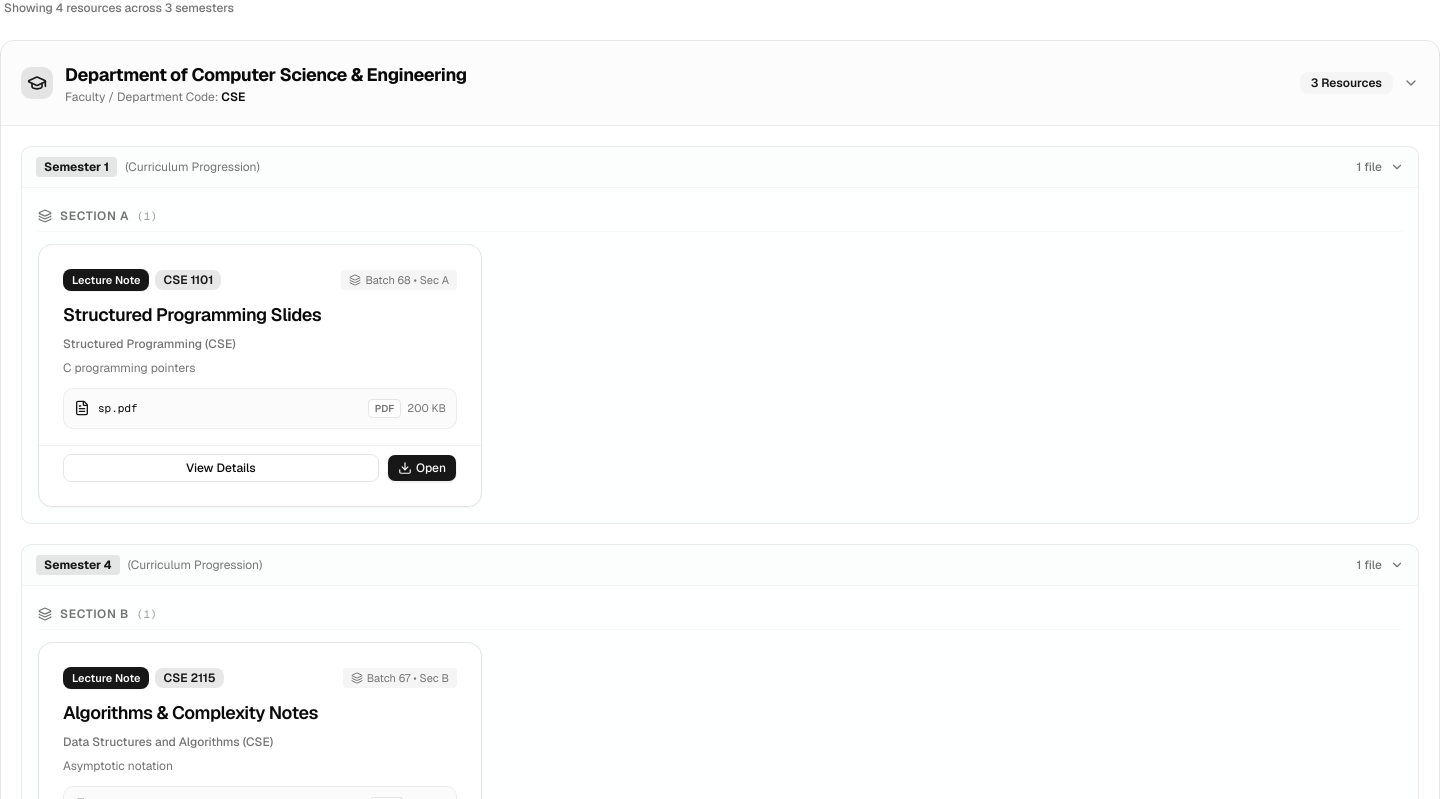
Test case: ResourceHierarchyView › toggles collapse and expand when department or semester headers are clicked
Click to collapse CSE
Click the button with aria-label "Toggle Department of Computer Science & Engineering": coordinates (37, 83) [1, 41, 1439, 126]
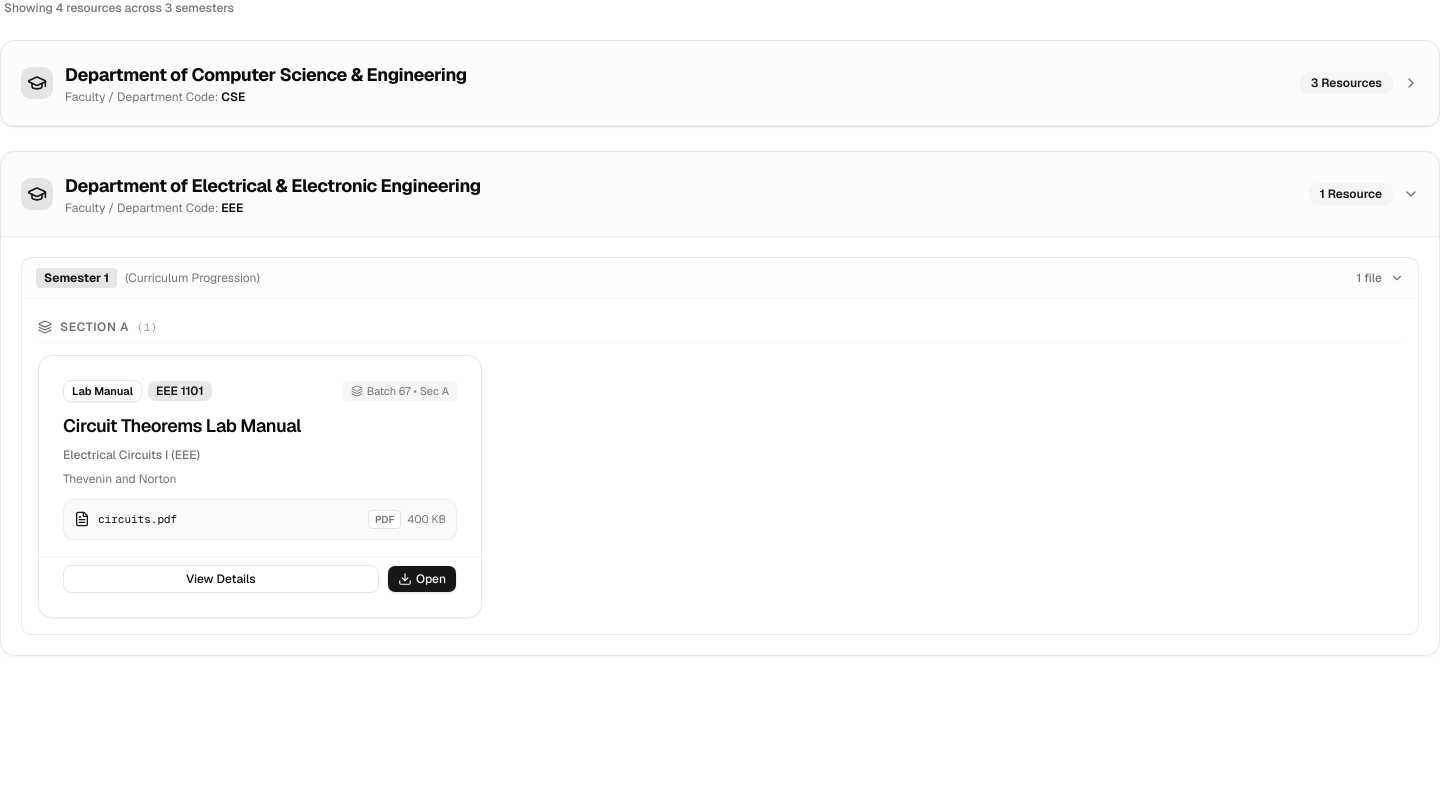
Expected: the button with aria-label "Toggle Department of Computer Science & Engineering" is collapsed
Click again to expand CSE
Click the button with aria-label "Toggle Department of Computer Science & Engineering": coordinates (37, 83) [1, 41, 1439, 126]
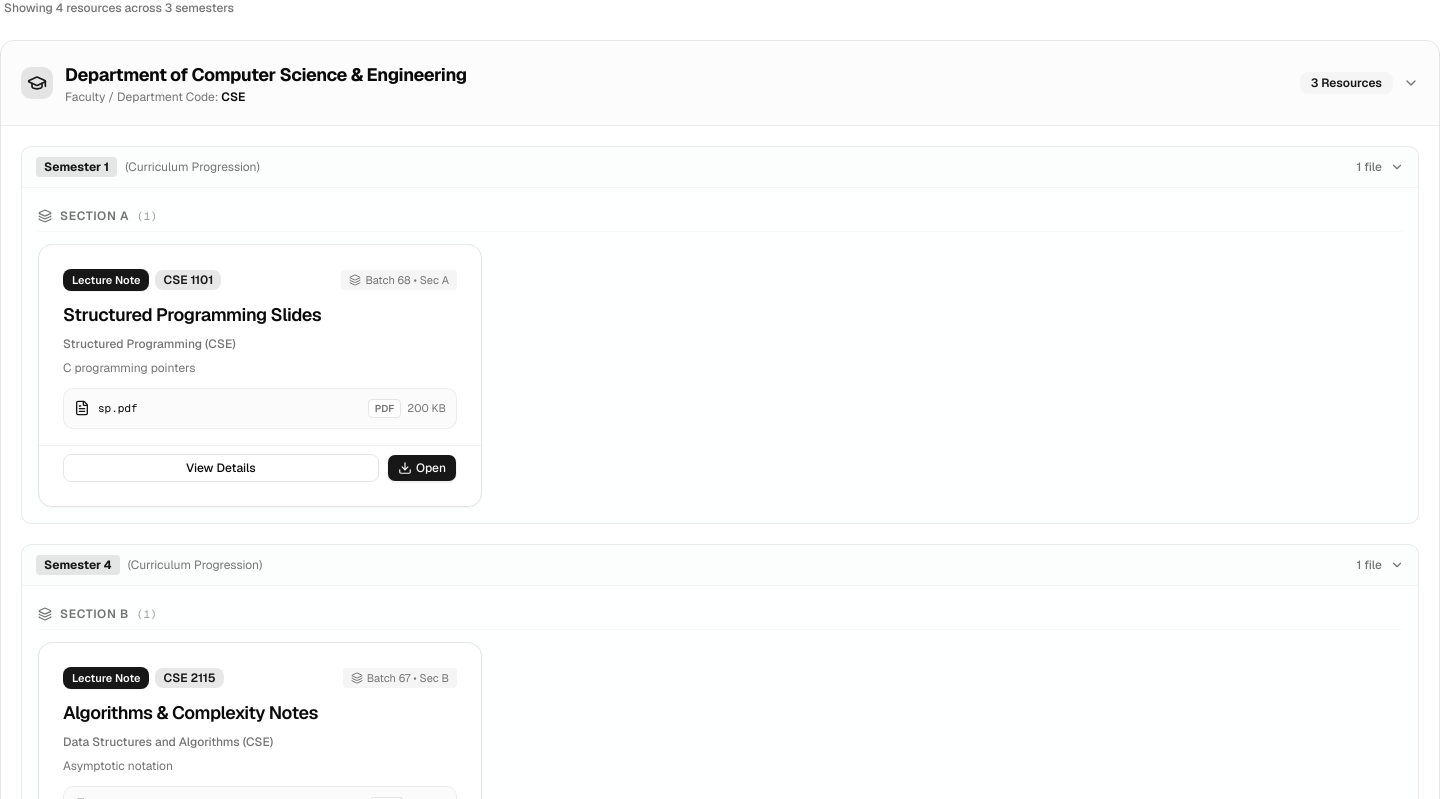
Expected: the button with aria-label "Toggle Department of Computer Science & Engineering" is expanded, [1, 41, 1439, 126]
